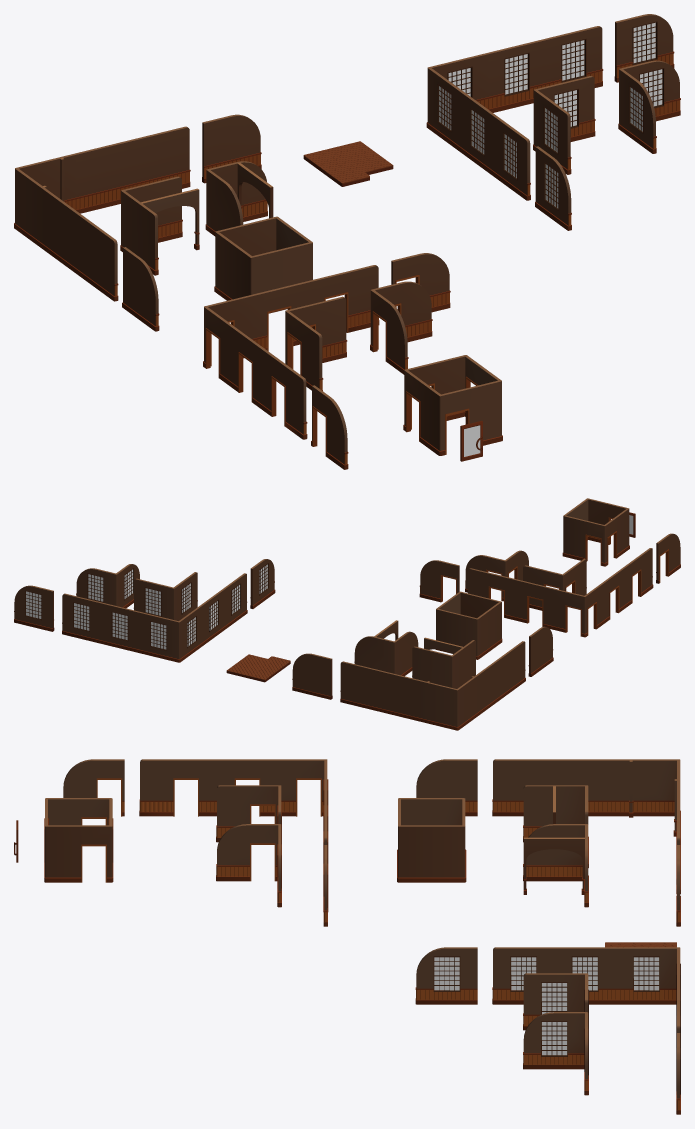
File: Walls_Floors_Style_C.fbx
3 views of the same model, one above another, from view 1: azimuth 30°, elevation 25°; view 2: azimuth 150°, elevation 25°; view 3: azimuth 270°, elevation 25° (orthographic). The views are drawn at different scales.
Visible parts, largest first — view 1: Wall_C_Window_Dark_Mid, Wall_C_Dark_Mid, Wall_C_Window_Dark_Mid_End_X, Wall_C_Dark_Mid_End_X, Wall_C_Dark_Mid_End_XL, Wall_C_Window_Dark_Mid_End_XL, Wall_DoorC_Enclosed_Corner_S, Wall_C_Enclosed_Corner_S, Wall_Door_C_Dark_Mid_End_X, Wall_C_Light_Mid_End_X, Wall_C_Window_Light_Mid_End_X, Wall_C_Window_Light_Corner_End_XL (+34 smaller); view 2: Wall_C_Window_Dark_Corner_Mid, Wall_C_Dark_Corner_Mid, Wall_C_Window_Dark_Mid, Wall_C_Window_Dark_Mid_End_X, Wall_C_Dark_Mid, Wall_C_Dark_Mid_End_X, Wall_C_Dark_Mid_End_XL, Wall_C_Window_Dark_Mid_End_XL, Wall_DoorC_Enclosed_Corner_N, Wall_Door_C_Dark_Corner_Mid, Wall_C_Window_Dark_Corner_End_X, Wall_C_Dark_Corner_End_X (+31 smaller); view 3: Wall_C_Enclosed_Corner_E, Wall_C_Window_Light_Corner_Mid, Wall_C_Window_Light_Mid_End_XL, Wall_C_Window_Light_Corner_End_XL, Wall_C_Light_Corner_Mid, Wall_DoorC_Enclosed_Corner_E, Wall_Door_C_Light_Mid_End_X, Wall_C_Window_Light_Mid_End_X, Wall_C_Light_Mid_End_X, Wall_C_Window_Light_Corner_End_X, Wall_Door_C_Light_Corner_End_XL, Wall_C_Light_Mid (+11 smaller).
Boxes of the visible parts, x1=… form: Wall_C_Window_Dark_Mid: x1=487, y1=39, x2=545, y2=112; Wall_C_Dark_Mid: x1=74, y1=140, x2=132, y2=213; Wall_C_Window_Dark_Mid_End_X: x1=544, y1=26, x2=603, y2=87; Wall_C_Dark_Mid_End_X: x1=131, y1=126, x2=190, y2=188; Wall_C_Dark_Mid_End_XL: x1=202, y1=114, x2=261, y2=183; Wall_C_Window_Dark_Mid_End_XL: x1=614, y1=14, x2=674, y2=82; Wall_DoorC_Enclosed_Corner_S: x1=440, y1=380, x2=502, y2=455; Wall_C_Enclosed_Corner_S: x1=251, y1=242, x2=312, y2=313; Wall_Door_C_Dark_Mid_End_X: x1=320, y1=265, x2=379, y2=332; Wall_C_Light_Mid_End_X: x1=81, y1=217, x2=118, y2=301; Wall_C_Window_Light_Mid_End_X: x1=493, y1=116, x2=530, y2=200; Wall_C_Window_Light_Corner_End_XL: x1=618, y1=69, x2=656, y2=153; Wall_C_Window_Dark_Corner_Mid: x1=139, y1=612, x2=179, y2=662; Wall_C_Dark_Corner_Mid: x1=417, y1=680, x2=457, y2=730; Wall_C_Window_Dark_Mid: x1=100, y1=602, x2=139, y2=652; Wall_C_Window_Dark_Mid_End_X: x1=62, y1=593, x2=101, y2=643; Wall_C_Dark_Mid: x1=379, y1=670, x2=418, y2=720; Wall_C_Dark_Mid_End_X: x1=340, y1=661, x2=379, y2=711; Wall_C_Dark_Mid_End_XL: x1=292, y1=653, x2=332, y2=699; Wall_C_Window_Dark_Mid_End_XL: x1=14, y1=585, x2=54, y2=631; Wall_DoorC_Enclosed_Corner_N: x1=562, y1=515, x2=605, y2=566; Wall_Door_C_Dark_Corner_Mid: x1=544, y1=586, x2=585, y2=637; Wall_C_Window_Dark_Corner_End_X: x1=133, y1=578, x2=174, y2=619; Wall_C_Dark_Corner_End_X: x1=412, y1=646, x2=452, y2=687; Wall_C_Enclosed_Corner_E: x1=397, y1=825, x2=465, y2=882; Wall_C_Window_Light_Corner_Mid: x1=615, y1=947, x2=679, y2=1004; Wall_C_Window_Light_Mid_End_XL: x1=415, y1=947, x2=477, y2=1004; Wall_C_Window_Light_Corner_End_XL: x1=523, y1=1012, x2=587, y2=1069; Wall_C_Light_Corner_Mid: x1=615, y1=759, x2=679, y2=816; Wall_DoorC_Enclosed_Corner_E: x1=45, y1=825, x2=112, y2=882; Wall_Door_C_Light_Mid_End_X: x1=139, y1=759, x2=201, y2=816; Wall_C_Window_Light_Mid_End_X: x1=492, y1=947, x2=554, y2=1004; Wall_C_Light_Mid_End_X: x1=492, y1=759, x2=554, y2=816; Wall_C_Window_Light_Corner_End_X: x1=523, y1=973, x2=587, y2=1030; Wall_Door_C_Light_Corner_End_XL: x1=216, y1=824, x2=280, y2=881; Wall_C_Light_Mid: x1=554, y1=759, x2=615, y2=816.
Bounding box in the file's own units: 4630 × 400 × 4347.
